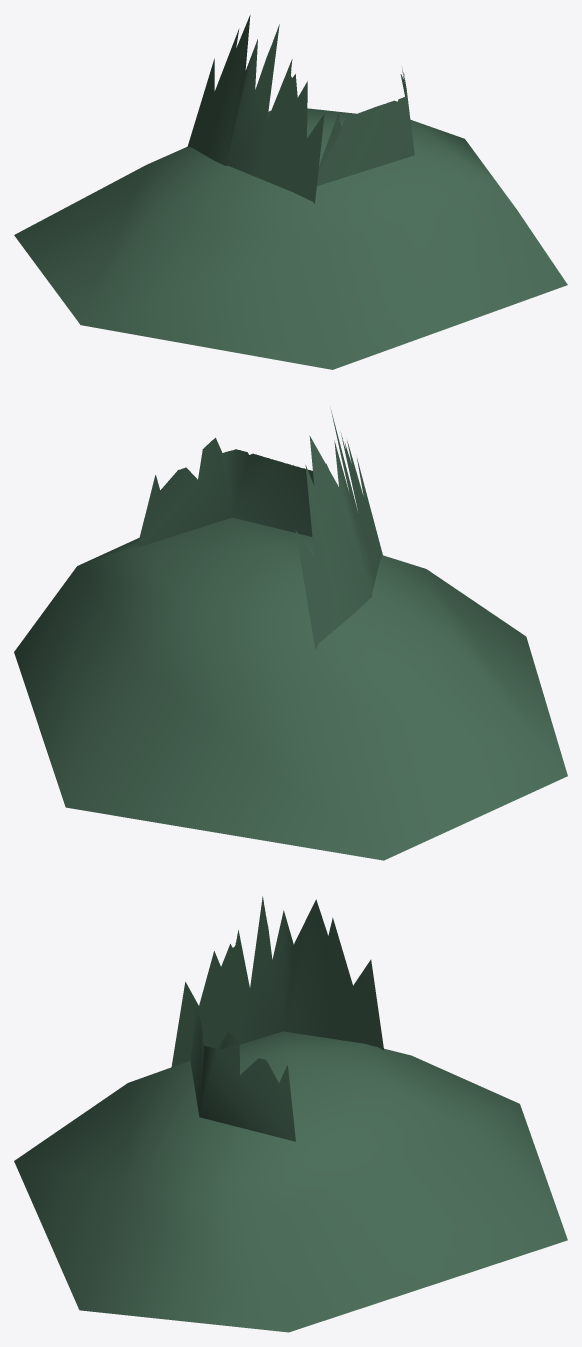
File: grass_patch_08.fbx
The picture shows the model from 3 angles, top to bottom: view 1: azimuth 30°, elevation 25°; view 2: azimuth 150°, elevation 25°; view 3: azimuth 270°, elevation 25°; orthographic projection. The views are drawn at different scales.
Visible parts, largest first — view 1: entropy_grass_04:Polygon, polySurface2, polySurface1; view 2: entropy_grass_04:Polygon, polySurface1, polySurface2; view 3: entropy_grass_04:Polygon, polySurface2, polySurface1.
Part boxes in pixels (x1,y1,x2,y2): entropy_grass_04:Polygon: [14, 108, 567, 369]; polySurface2: [187, 15, 324, 203]; polySurface1: [317, 67, 414, 185]; entropy_grass_04:Polygon: [14, 517, 567, 860]; polySurface1: [137, 437, 328, 547]; polySurface2: [295, 410, 382, 649]; entropy_grass_04:Polygon: [14, 1031, 567, 1332]; polySurface2: [171, 896, 383, 1068]; polySurface1: [190, 1004, 295, 1141].
Size of the model in its own units: 69.54 by 38.9 by 64.47.
